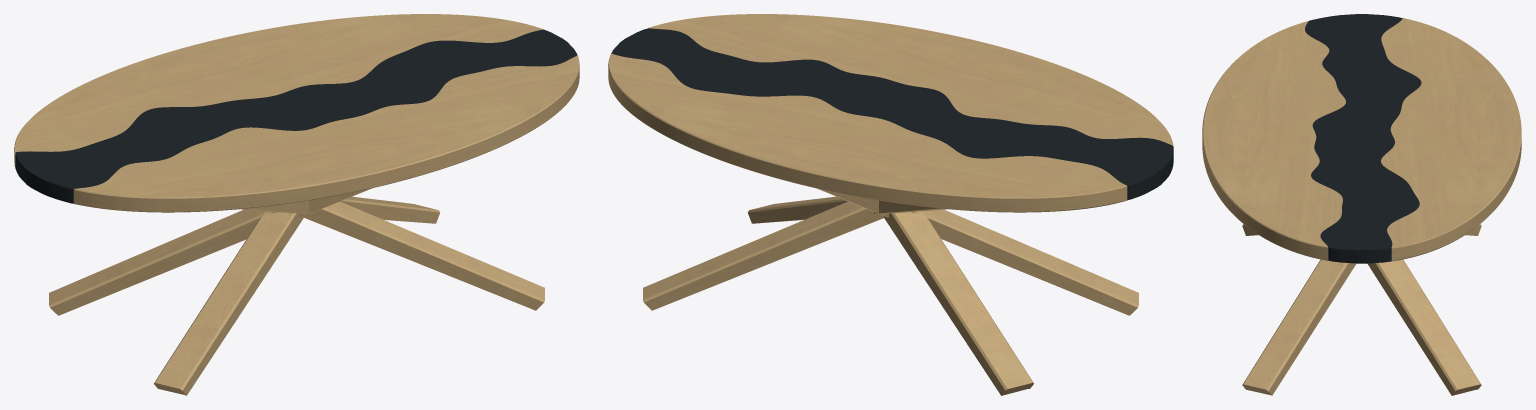
Rendered from ellipse-beech-epoxy-black.glb.
The picture shows the model from 3 angles, left to right: view 1: azimuth 30°, elevation 25°; view 2: azimuth 150°, elevation 25°; view 3: azimuth 270°, elevation 25°; orthographic projection. The views are drawn at different scales.
Visible parts, largest first — view 1: Wood_Ellipse_EpoxyFar, Wood_Ellipse_EpoxyNear, Base_Ellipse, Resin_Ellipse; view 2: Wood_Ellipse_EpoxyNear, Wood_Ellipse_EpoxyFar, Base_Ellipse, Resin_Ellipse; view 3: Wood_Ellipse_EpoxyNear, Wood_Ellipse_EpoxyFar, Resin_Ellipse, Base_Ellipse.
Part boxes in pixels (left/top/right/bottom): Wood_Ellipse_EpoxyFar: left=73, top=55, right=579, bottom=212; Wood_Ellipse_EpoxyNear: left=14, top=14, right=543, bottom=166; Base_Ellipse: left=49, top=188, right=544, bottom=395; Resin_Ellipse: left=15, top=29, right=577, bottom=203; Wood_Ellipse_EpoxyNear: left=608, top=53, right=1127, bottom=212; Wood_Ellipse_EpoxyFar: left=647, top=14, right=1173, bottom=145; Base_Ellipse: left=643, top=188, right=1138, bottom=395; Resin_Ellipse: left=611, top=28, right=1173, bottom=200; Wood_Ellipse_EpoxyNear: left=1381, top=18, right=1521, bottom=261; Wood_Ellipse_EpoxyFar: left=1202, top=21, right=1345, bottom=260; Resin_Ellipse: left=1305, top=14, right=1421, bottom=263; Base_Ellipse: left=1242, top=224, right=1481, bottom=395.
Bounding box in the file's own units: 2.13 × 0.762 × 1.22.
2 materials, 1 textured.
